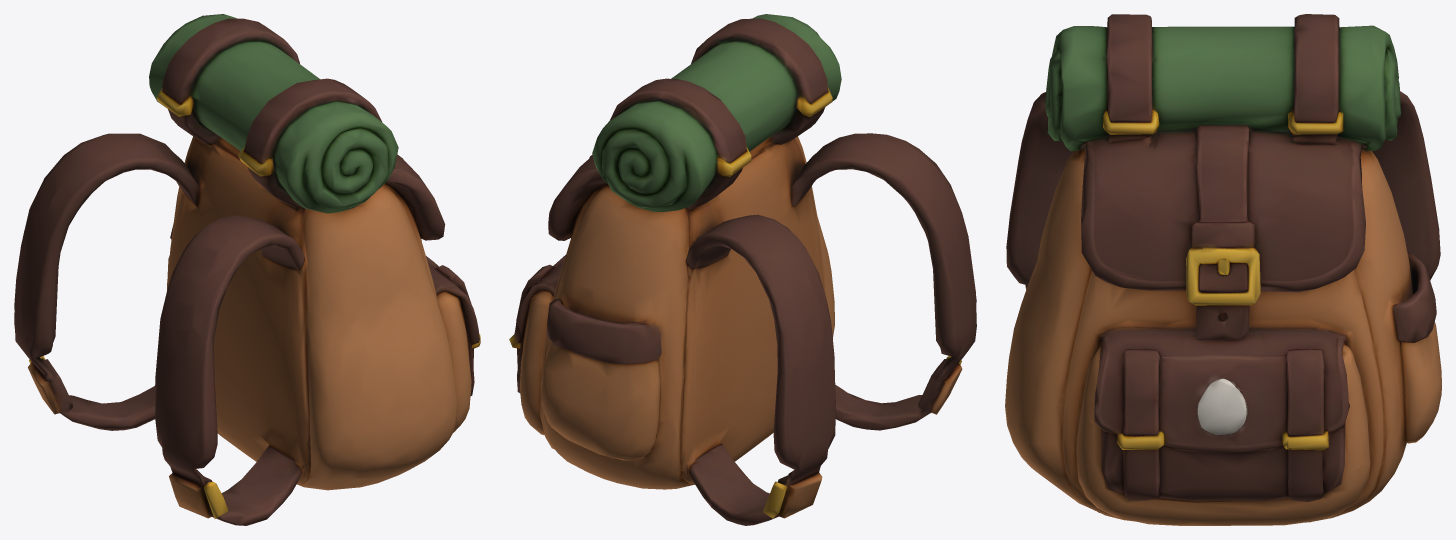
The model's file is backpack.glb.
3 renders of one model, left to right at view 1: azimuth 30°, elevation 25°; view 2: azimuth 150°, elevation 25°; view 3: azimuth 270°, elevation 25°, orthographic. The views are drawn at different scales.
Parts seen in each view (by area): view 1: tripo_node_42cb2a1f-7430-44eb-8936-9bf54d83949d; view 2: tripo_node_42cb2a1f-7430-44eb-8936-9bf54d83949d; view 3: tripo_node_42cb2a1f-7430-44eb-8936-9bf54d83949d.
Boxes of the visible parts, <box> form: tripo_node_42cb2a1f-7430-44eb-8936-9bf54d83949d: <box>14,14,480,525</box>; tripo_node_42cb2a1f-7430-44eb-8936-9bf54d83949d: <box>509,14,976,525</box>; tripo_node_42cb2a1f-7430-44eb-8936-9bf54d83949d: <box>1005,14,1441,525</box>.
Bounding box in the file's own units: 0.8952 × 1 × 0.8703.
Materials: 1 (1 with a texture image).
